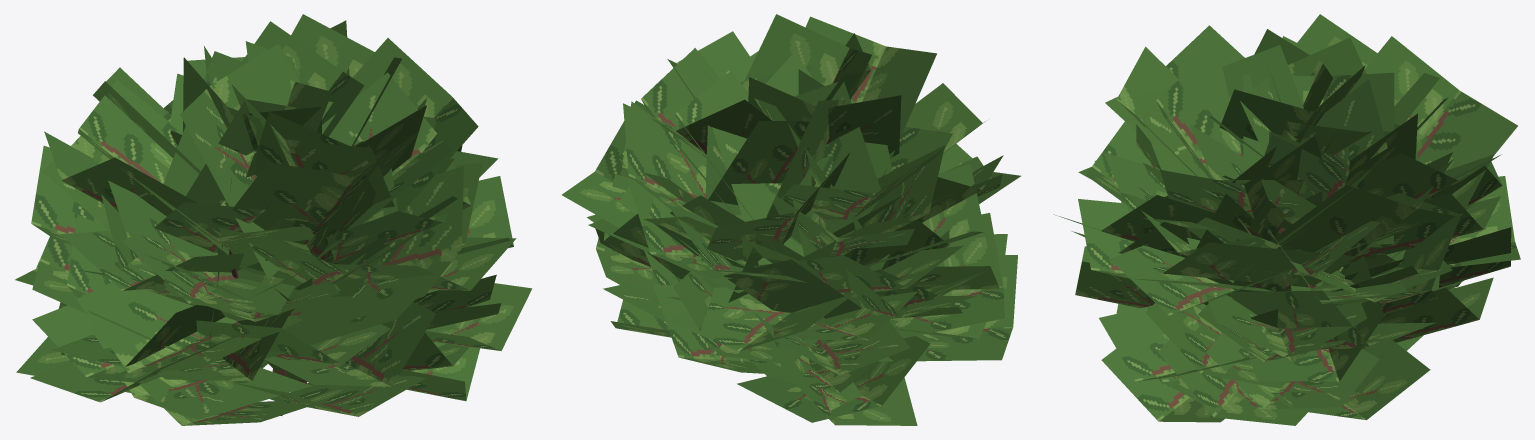
Rendered from leafy_bush1_v1.fbx.
3 renders of one model, left to right at view 1: azimuth 30°, elevation 25°; view 2: azimuth 150°, elevation 25°; view 3: azimuth 270°, elevation 25°, orthographic. The views are drawn at different scales.
Parts seen in each view (by area): view 1: leafy_bush1_v1; view 2: leafy_bush1_v1; view 3: leafy_bush1_v1.
Boxes of the visible parts, x1,y1,x2,y2 form: leafy_bush1_v1: (15,14,532,425); leafy_bush1_v1: (562,14,1020,425); leafy_bush1_v1: (1053,14,1520,425).
Size of the model in its own units: 137 by 101 by 133.
